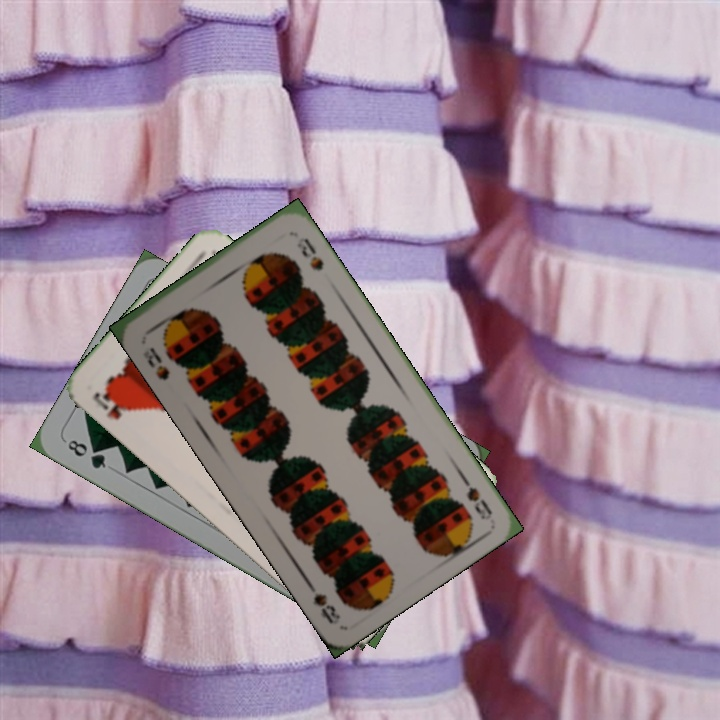G8: (63, 435, 109, 472)
HO: (88, 385, 132, 423)
S8: (455, 468, 495, 523), (139, 343, 173, 384)
